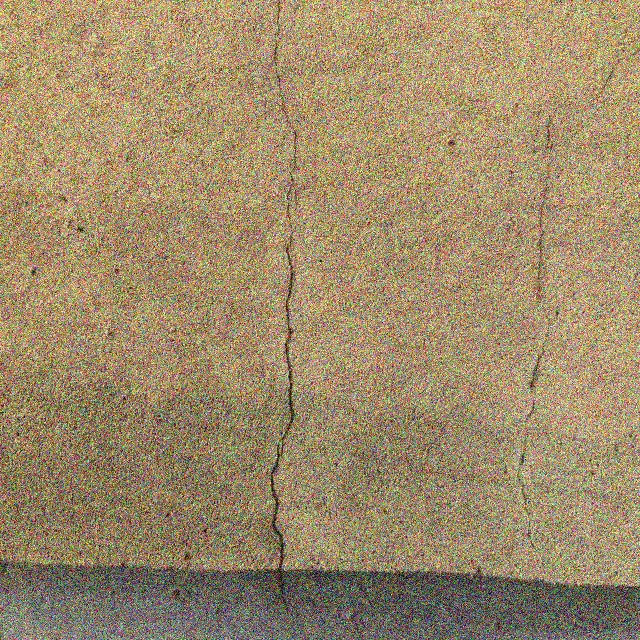SurfaceCrack: (484, 1, 627, 574), (227, 1, 337, 568)
